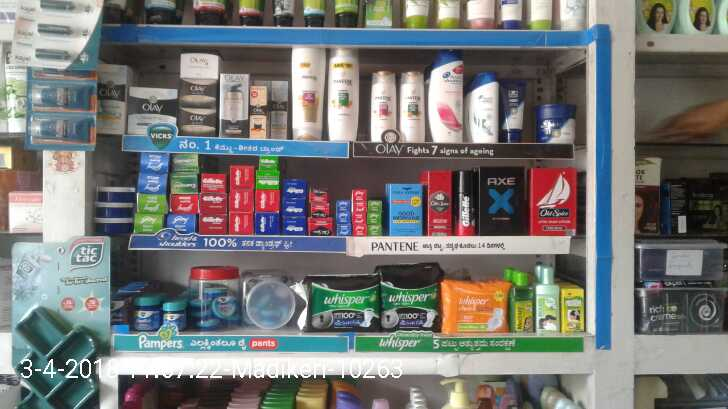vicks: (138, 277, 191, 326), (191, 282, 240, 326), (106, 277, 138, 327)
